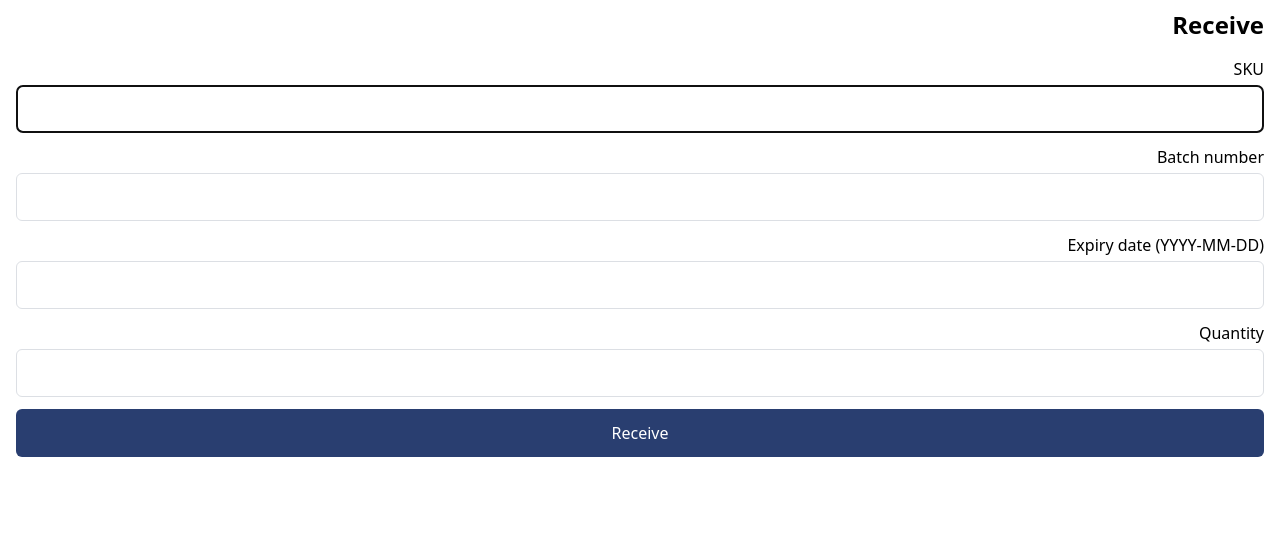
Scenario: Form state after a scan (double-receipt guard) › after a refused scan the four fields keep their values so the worker can correct them
This screenshot has width=1280, height=538.
In the field labelled "SKU": (640, 109) left=16, top=85, right=1264, bottom=133, type "SKU-100"
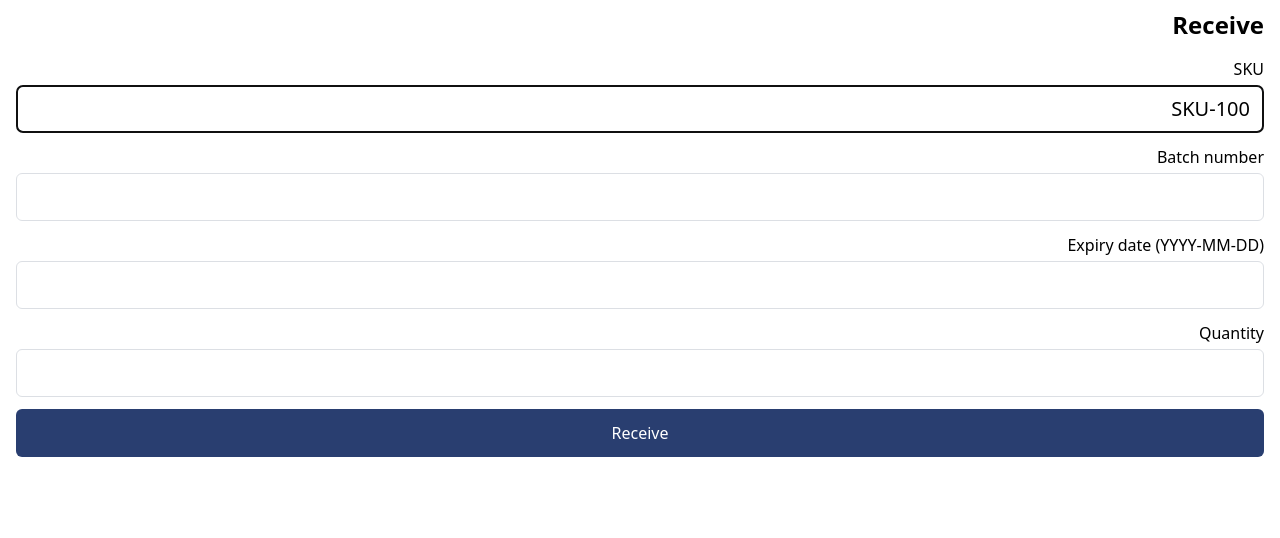
In the field labelled "Batch number": (640, 197) left=16, top=173, right=1264, bottom=221, type "B2409-7"
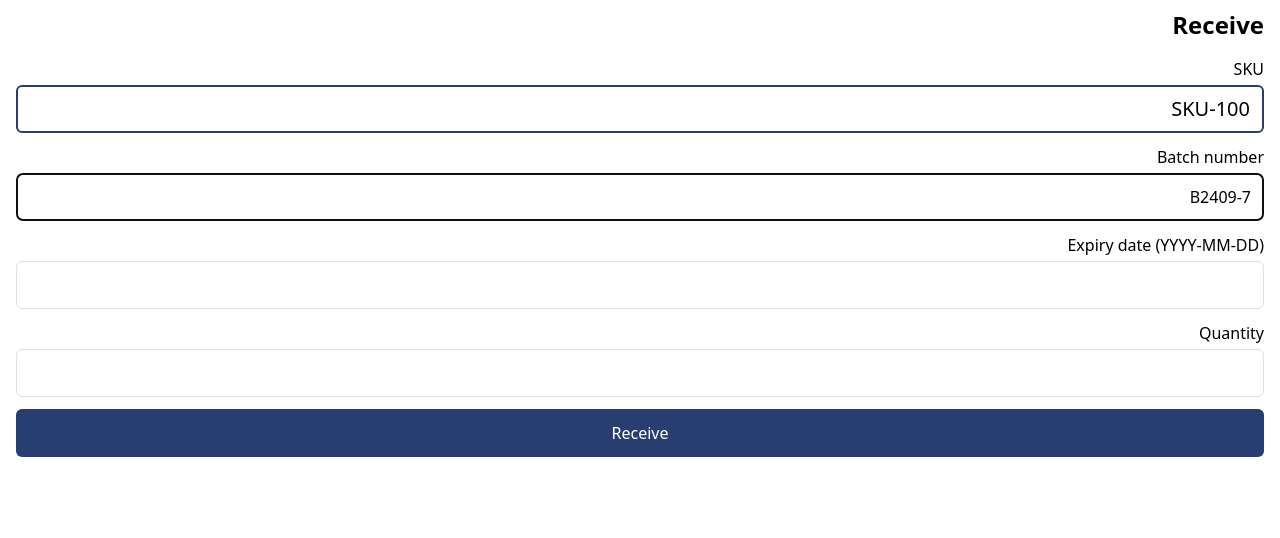
In the field labelled "Expiry date (YYYY-MM-DD)": (640, 285) left=16, top=261, right=1264, bottom=309, type "2027-01-27"
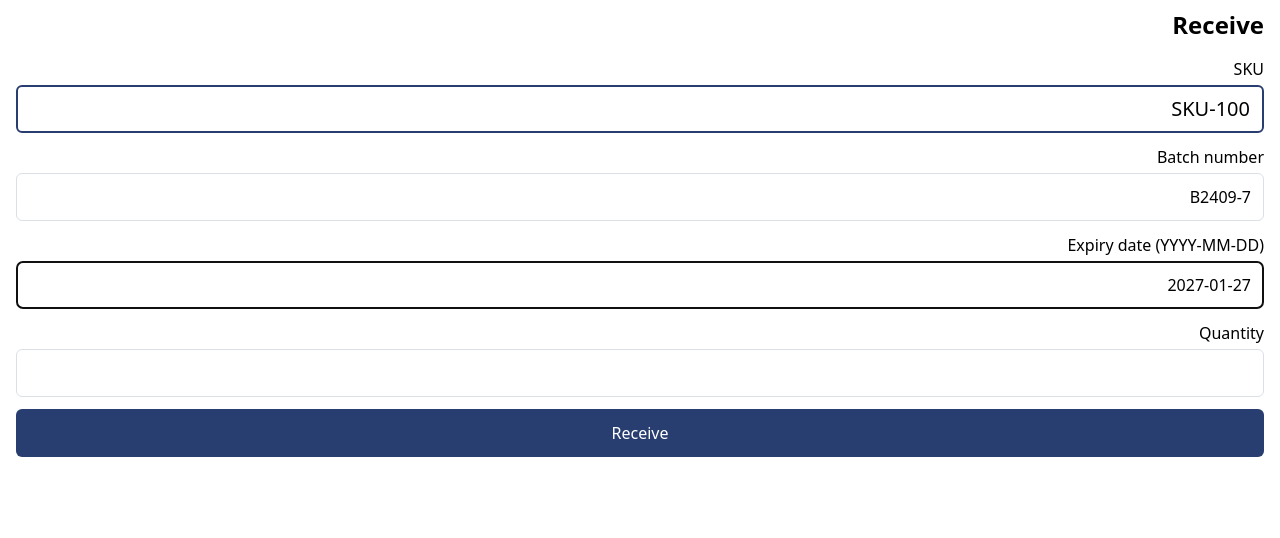
In the field labelled "Quantity": (640, 373) left=16, top=349, right=1264, bottom=397, type "10"
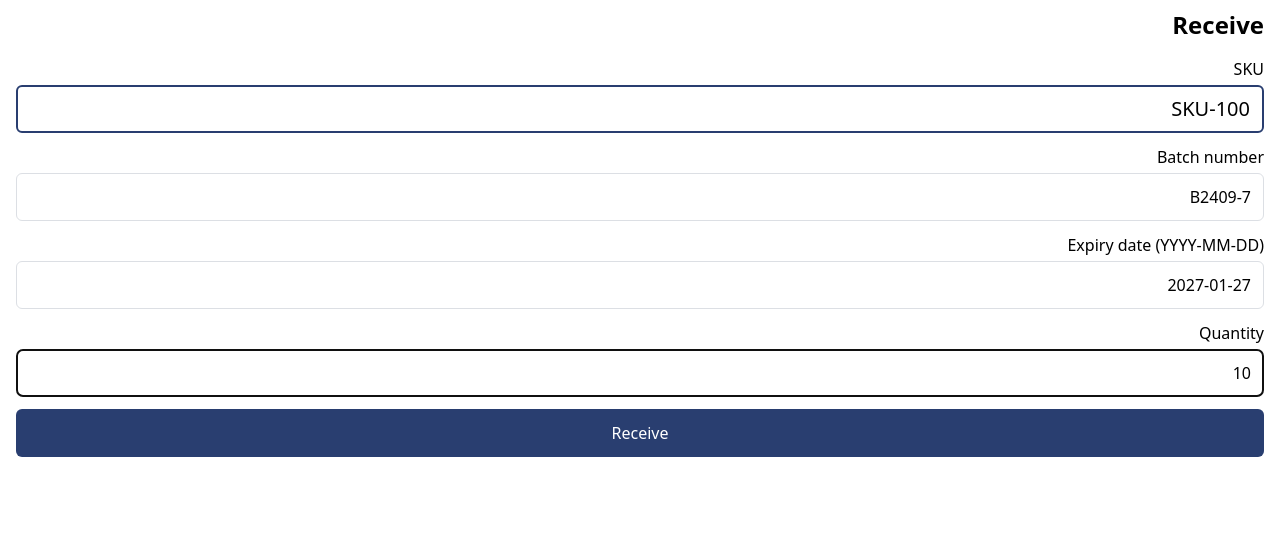
Click the button "Receive": (640, 433) left=16, top=409, right=1264, bottom=457
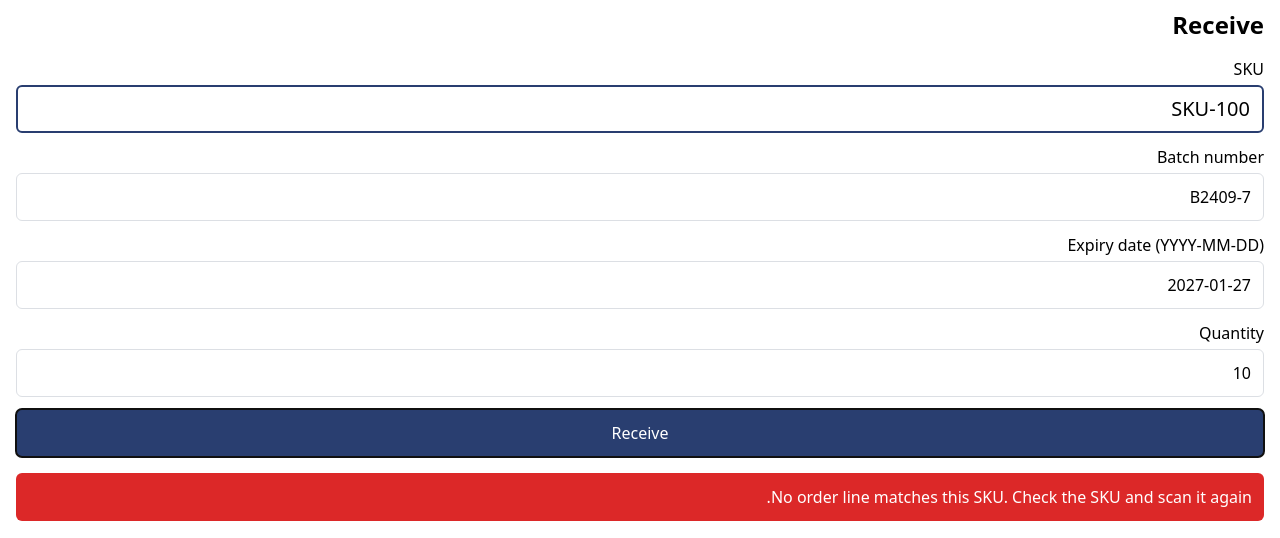
Now the message "No order line matches this SKU. Check the SKU and scan it again." is shown, box left=16, top=473, right=1264, bottom=521
